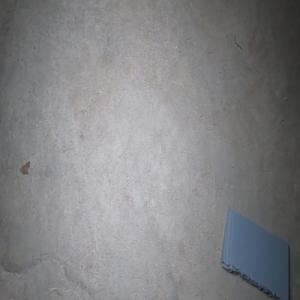PlasticPart: (220, 206, 290, 299)
